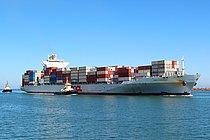Ship: (16, 50, 204, 99)
